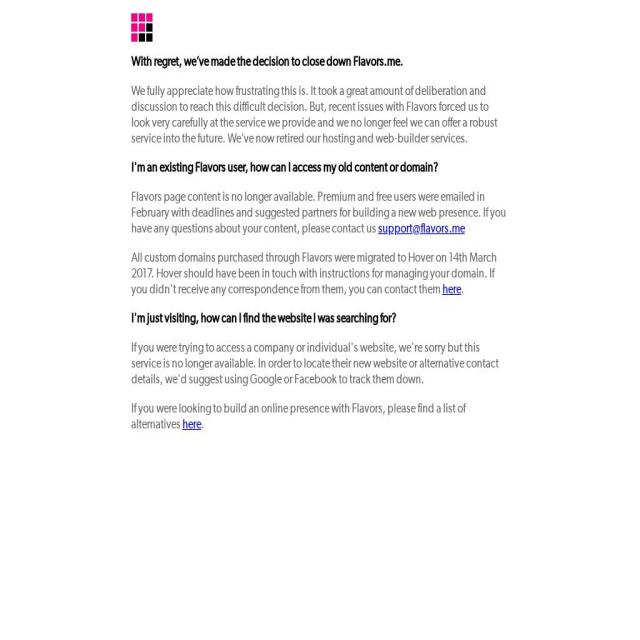image: (130, 13, 152, 42)
link: (377, 222, 465, 236), (442, 283, 461, 297), (182, 418, 201, 432)
text: (130, 84, 510, 148), (130, 341, 510, 388), (131, 191, 506, 236), (131, 252, 497, 296), (130, 402, 466, 432), (131, 162, 438, 175), (131, 312, 396, 326), (131, 56, 403, 69), (460, 283, 464, 297), (200, 418, 204, 432)
